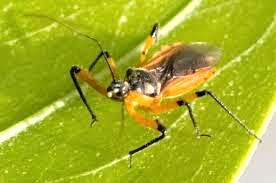Helopeltis-insect: (84, 35, 233, 132)
